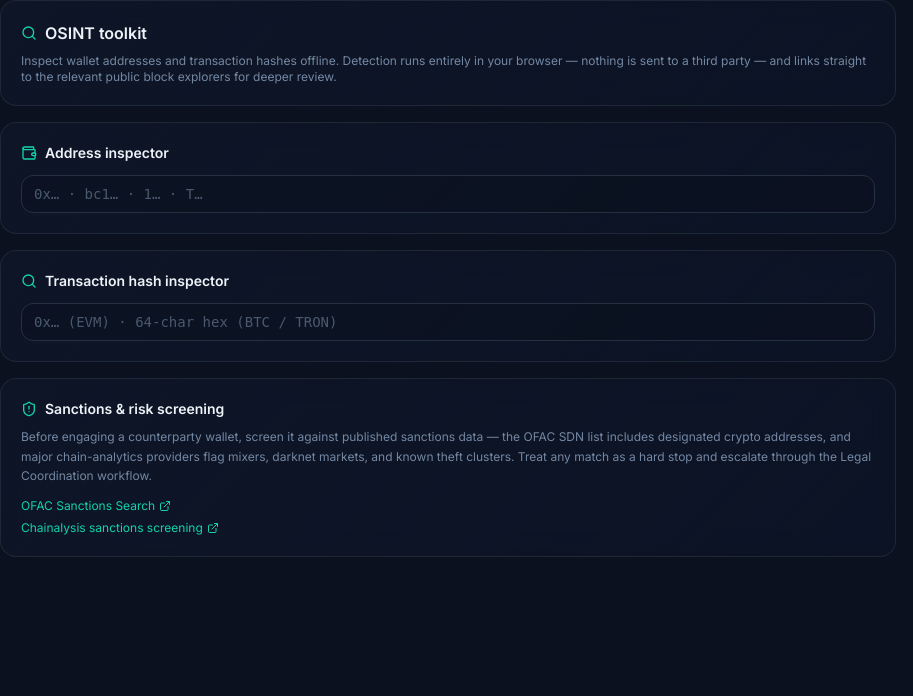
Test case: OSINT toolkit portal section › inspects a valid EVM address and surfaces explorer links
Type "0x52908400098527886E0F7030069857D2E4169EE7" into the field with test id "osint-address-input".
click(448, 194); type("0x52908400098527886E0F7030069857D2E4169EE7")  # box [21,175,875,213]
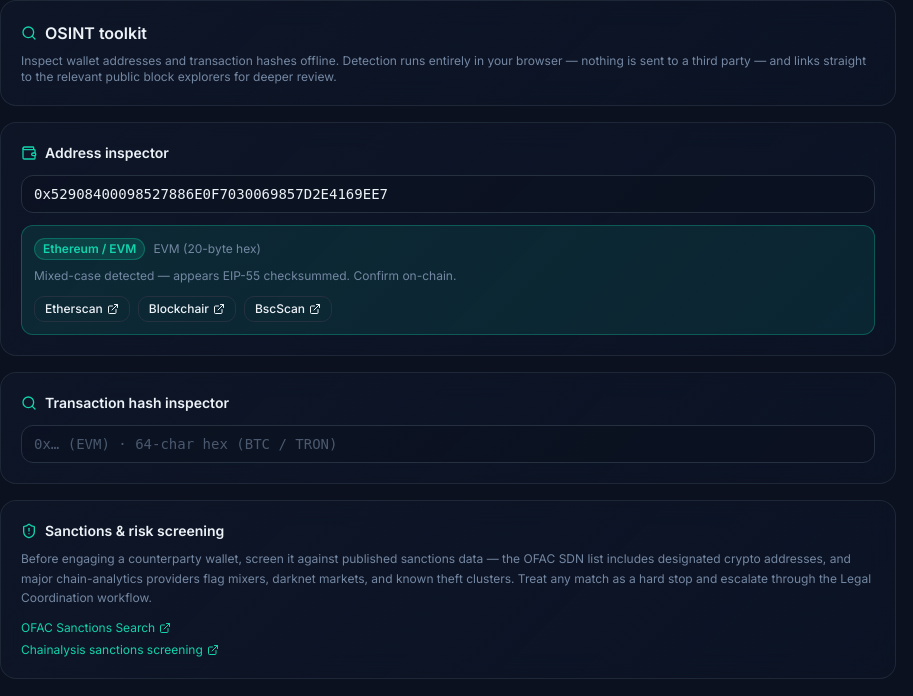
Expected: the element with test id "osint-address-result" shows "Ethereum / EVM", [43,241,136,256]
Expected: the element with test id "osint-address-result" shows "Etherscan", [34,296,130,322]
